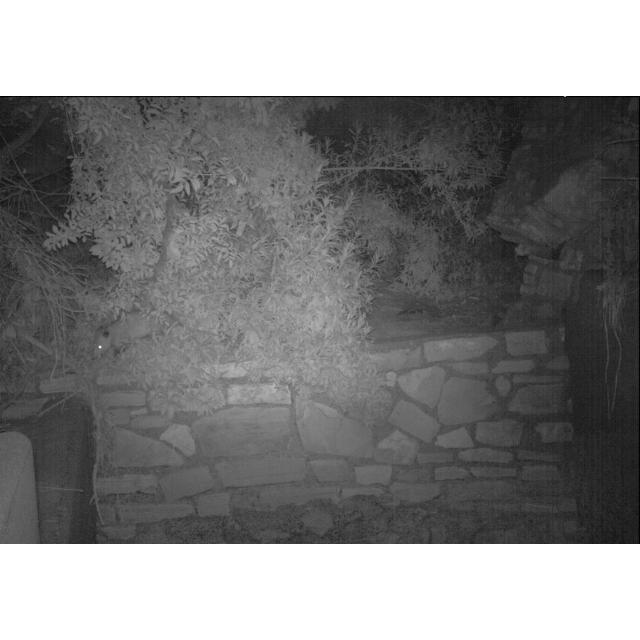animals: (88, 306, 188, 364)
